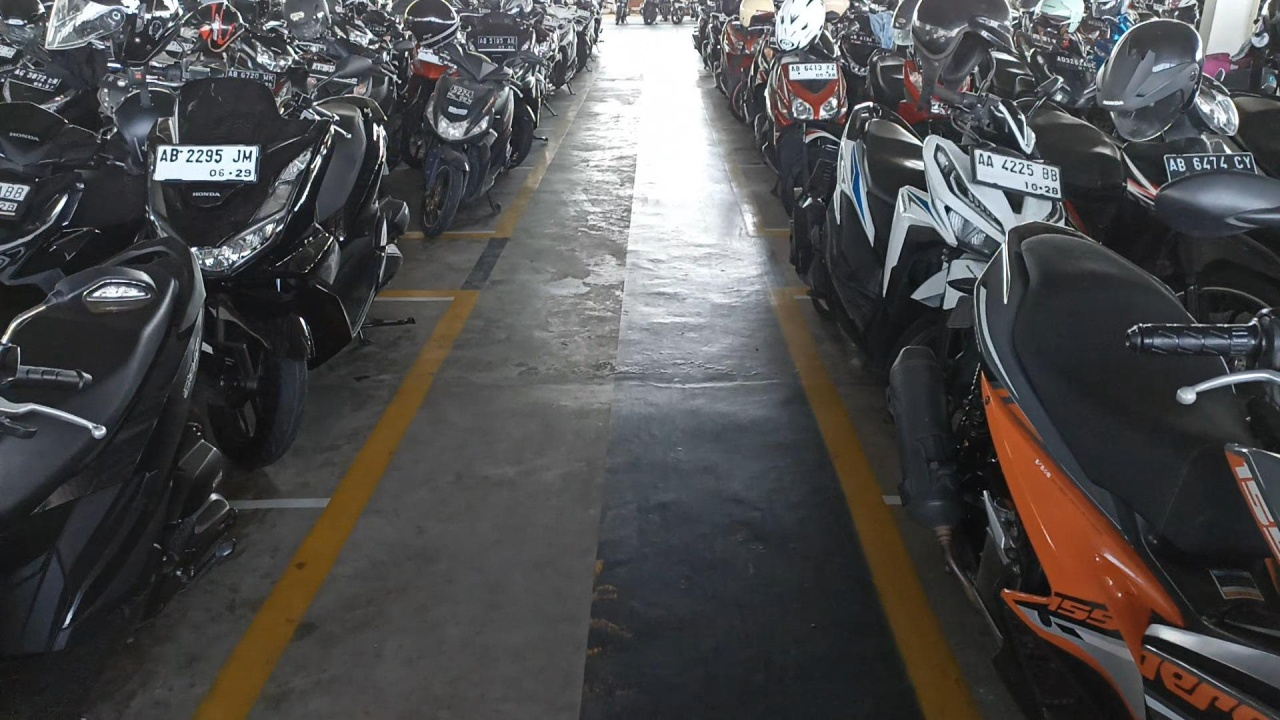plate: (973, 147, 1063, 200), (153, 145, 259, 182), (8, 66, 62, 92), (789, 63, 838, 80), (478, 36, 516, 51)
